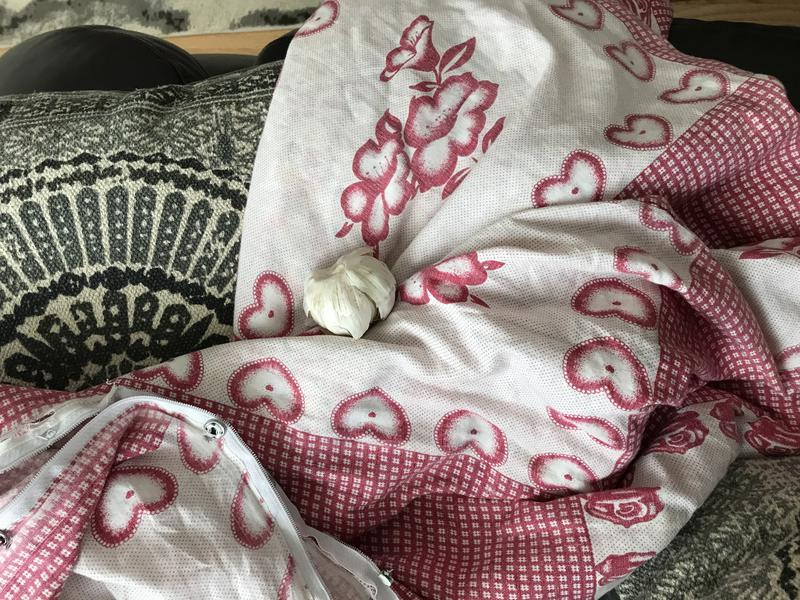garlic: (299, 238, 404, 346)
